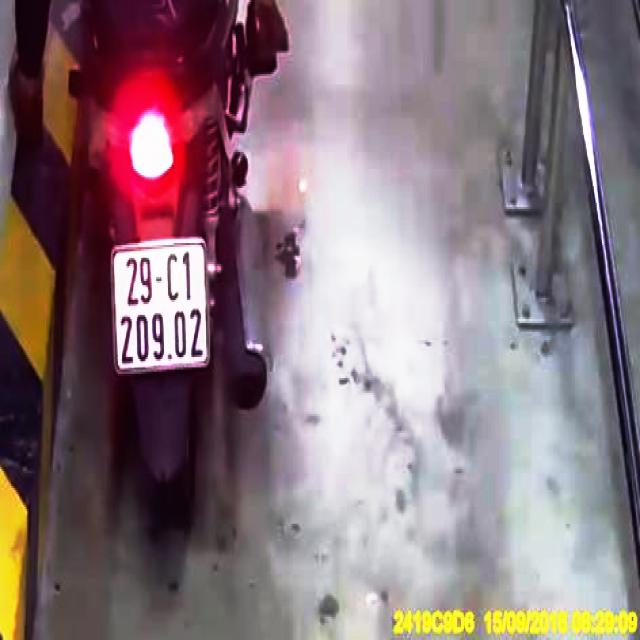license_plate: (115, 243, 209, 371)
